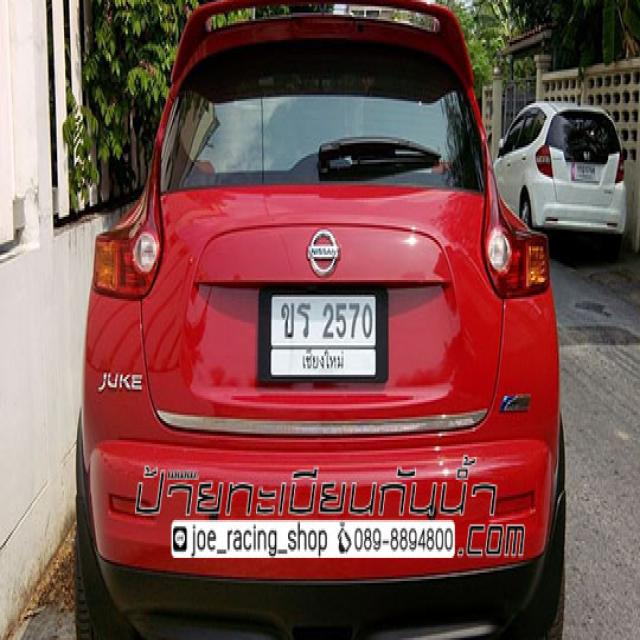license_plate: (257, 276, 389, 393)
